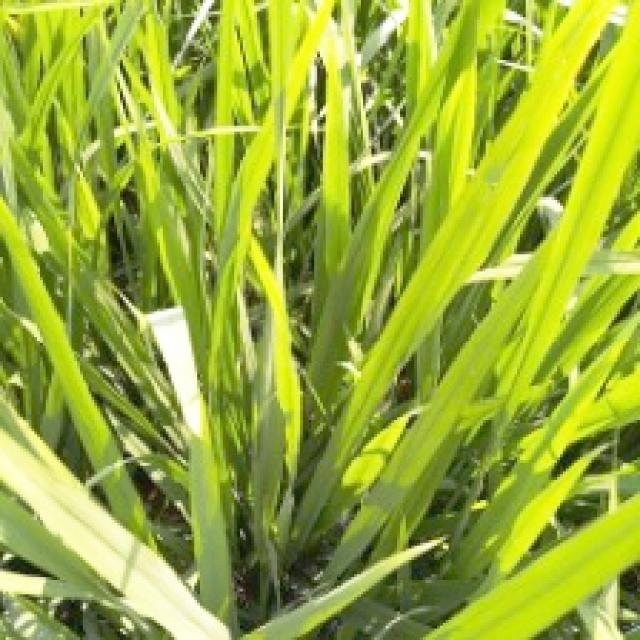health: (317, 11, 640, 640)
